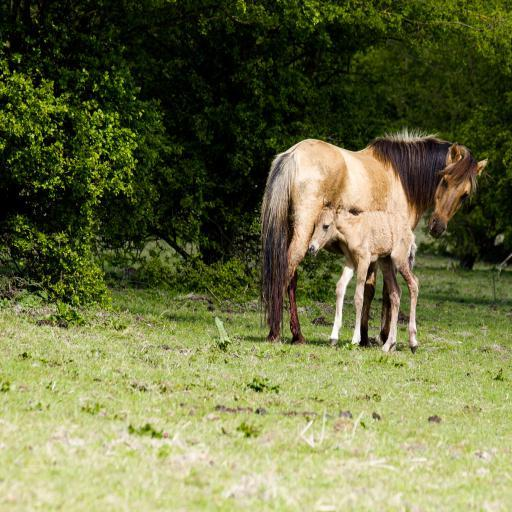Horse: (257, 124, 490, 346), (307, 196, 420, 354)
